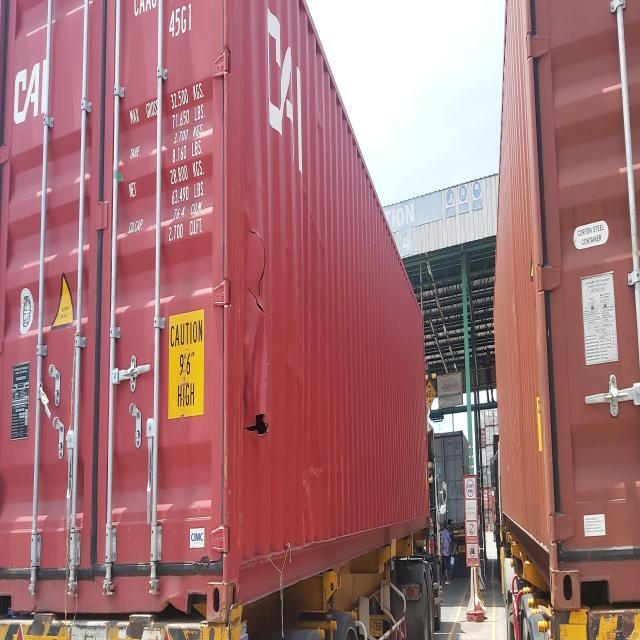hole: (245, 413, 272, 440)
